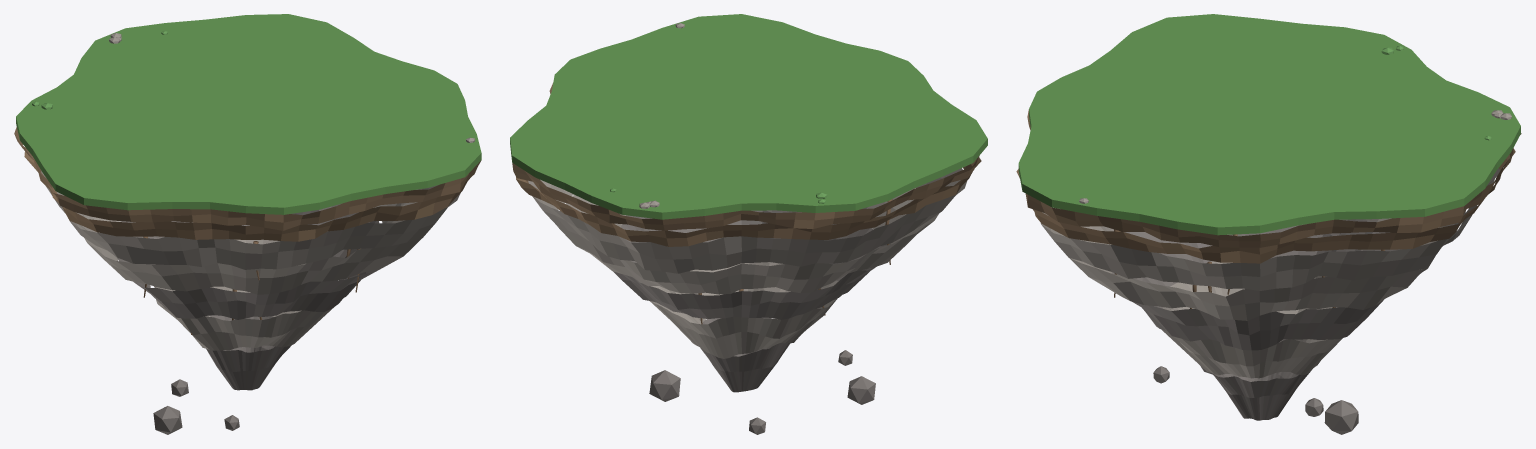
The model's file is islet_2.glb.
3 renders of one model, left to right at view 1: azimuth 30°, elevation 25°; view 2: azimuth 150°, elevation 25°; view 3: azimuth 270°, elevation 25°, orthographic. The views are drawn at different scales.
Visible parts, largest first — view 1: cap; view 2: cap; view 3: cap.
Part boxes in pixels (bbox=[...]): cap: bbox=[14, 14, 481, 434]; cap: bbox=[510, 14, 987, 434]; cap: bbox=[1016, 14, 1521, 434].
Size of the model in its own units: 2.08 by 1.43 by 2.06.
